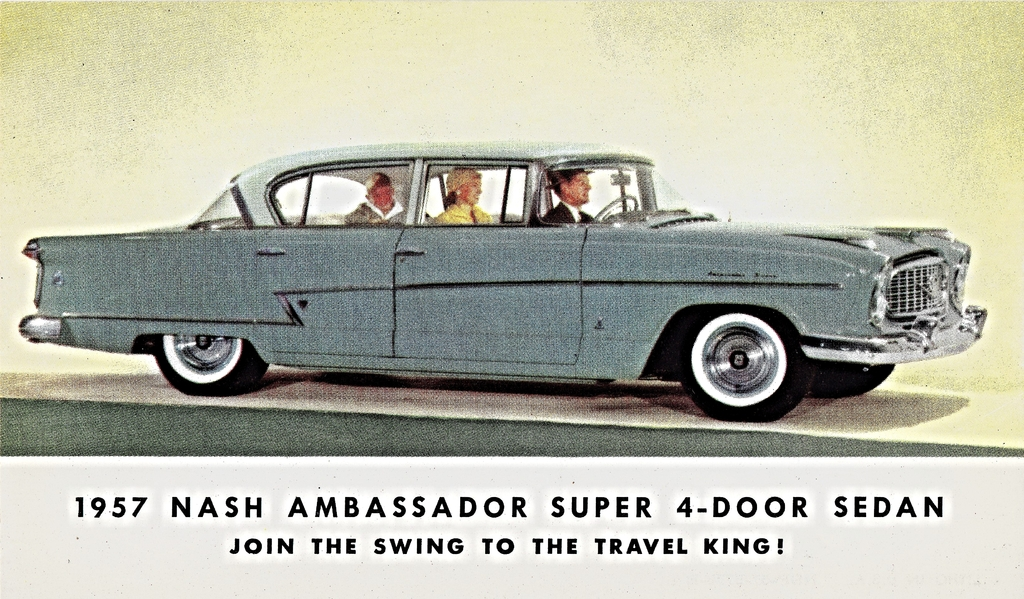Car: (19, 139, 981, 469)
